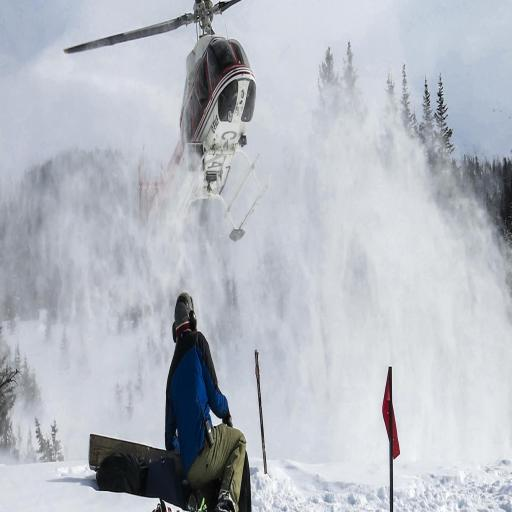helicopter: (64, 2, 274, 251)
